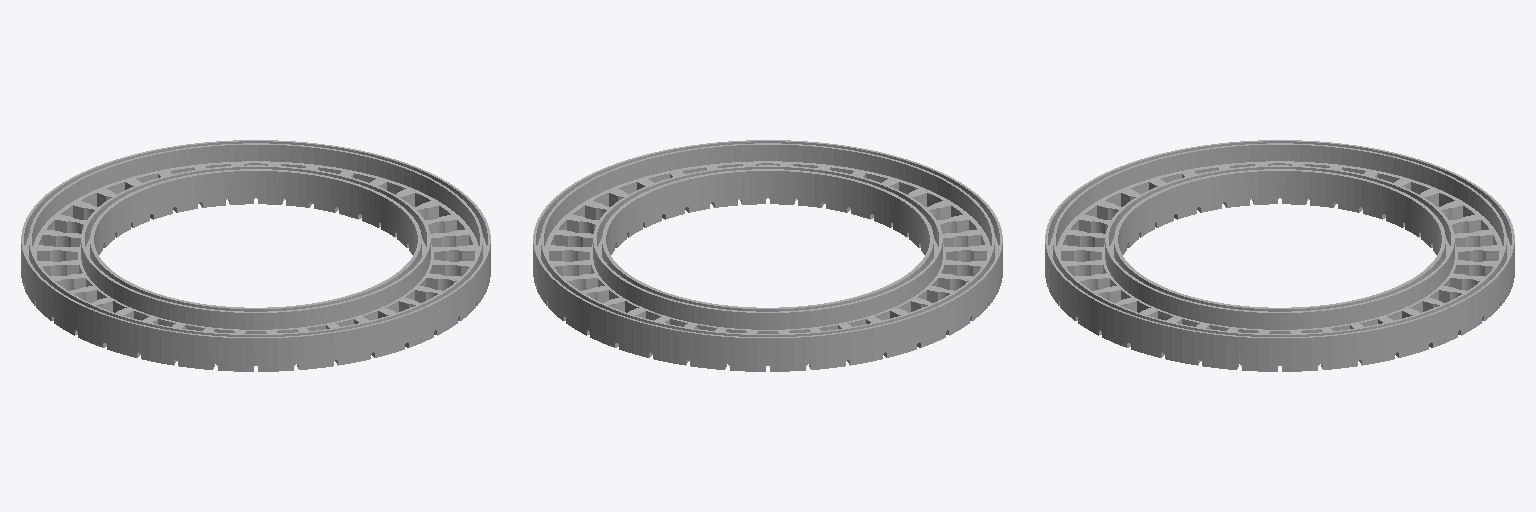
Rendered from PethFormaFlanecTop.obj.
3 renders of one model, left to right at view 1: azimuth 30°, elevation 25°; view 2: azimuth 150°, elevation 25°; view 3: azimuth 270°, elevation 25°, orthographic.
Parts seen in each view (by area): view 1: drfg; view 2: drfg; view 3: drfg.
Boxes of the visible parts, x1=… form: drfg: x1=21, y1=140, x2=490, y2=371; drfg: x1=533, y1=140, x2=1002, y2=371; drfg: x1=1045, y1=140, x2=1514, y2=371.
Size of the model in its own units: 203 by 16 by 203.